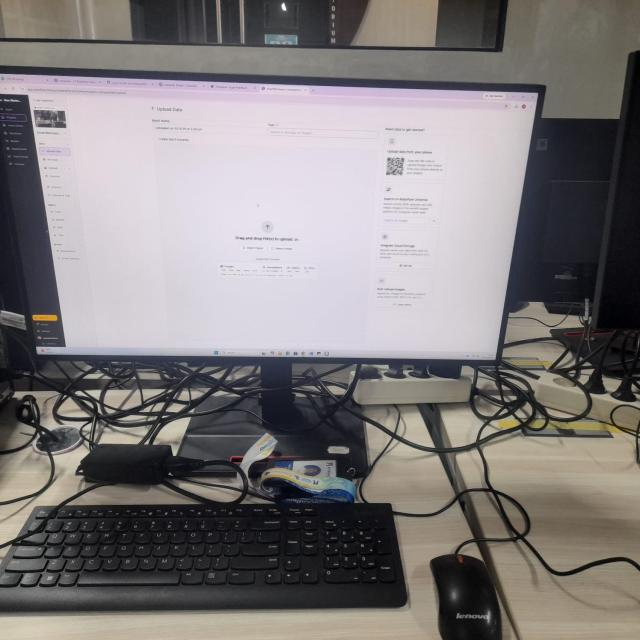keyboard: (0, 498, 407, 612)
monitor: (0, 66, 547, 480)
mouse: (430, 553, 502, 640)
